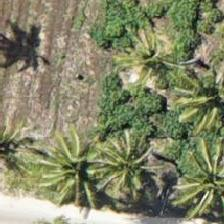coconut_tree: (86, 116, 176, 206), (37, 118, 127, 208), (103, 10, 193, 100), (165, 132, 223, 222), (168, 52, 223, 142), (0, 98, 45, 188)
